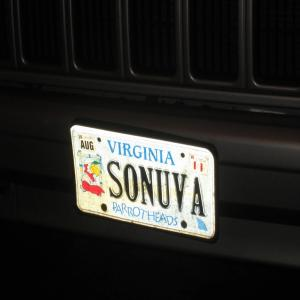Vehicle-registration-plate: (70, 123, 217, 241)
